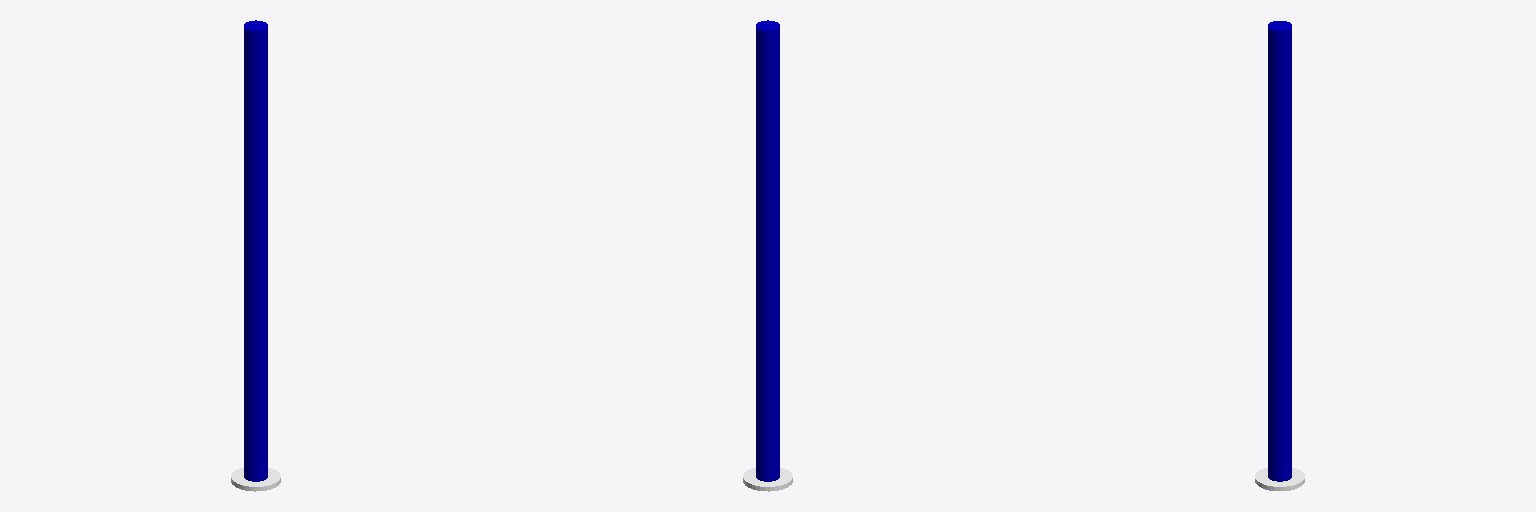
URDF robot description (spatial_10dof):
<?xml version="1.0" ?>
<robot name="spatial_10dof" xmlns:xacro="http://ros.org/wiki/xacro">
    <gazebo>
        <plugin filename="libgazebo_ros_control.so" name="ros_control" />
        <plugin name="gazebo_ros_control" filename="libgazebo_ros_control.so">
            <robotNamespace>/</robotNamespace>
        </plugin>
    </gazebo>
    <link name="world">
        <visual>
            <origin xyz="0 0 0" rpy="0 0 0" />
            <geometry>
                <cylinder length="0.01" radius="0.05" />
            </geometry>
            <material name="White">
                <color rgba="1.0 1.0 1.0 1.0" />
            </material>
        </visual>
    </link>
    <link name="link1">
        <visual>
            <origin xyz="0 0 0.05" rpy="0 0 0" />
            <geometry>
                <cylinder length="0.1" radius="0.025" />
            </geometry>
            <material name="Blue">
                <color rgba="0.0 0.0 0.8 1.0" />
            </material>
        </visual>
        <collision>
            <origin xyz="0 0 0.05" rpy="0 0 0" />
            <geometry>
                <cylinder length="0.1" radius="0.025" />
            </geometry>
        </collision>
        <inertial>
            <mass value="0.1" />
            <origin xyz="0 0 0" rpy="0 0 0" />
            <inertia ixx="0.03" iyy="0.03" izz="0.03" ixy="0.0" ixz="0.0" iyz="0.0" />
        </inertial>
    </link>
    <link name="link2">
        <visual>
            <origin xyz="0 0 0.05" rpy="0 0 0" />
            <geometry>
                <cylinder length="0.1" radius="0.025" />
            </geometry>
            <material name="Blue">
                <color rgba="0.0 0.0 0.8 1.0" />
            </material>
        </visual>
        <collision>
            <origin xyz="0 0 0.05" rpy="0 0 0" />
            <geometry>
                <cylinder length="0.1" radius="0.025" />
            </geometry>
        </collision>
        <inertial>
            <mass value="0.1" />
            <origin xyz="0 0 0" rpy="0 0 0" />
            <inertia ixx="0.03" iyy="0.03" izz="0.03" ixy="0.0" ixz="0.0" iyz="0.0" />
        </inertial>
    </link>
    <link name="link3">
        <visual>
            <origin xyz="0 0 0.05" rpy="0 0 0" />
            <geometry>
                <cylinder length="0.1" radius="0.025" />
            </geometry>
            <material name="Blue">
                <color rgba="0.0 0.0 0.8 1.0" />
            </material>
        </visual>
        <collision>
            <origin xyz="0 0 0.05" rpy="0 0 0" />
            <geometry>
                <cylinder length="0.1" radius="0.025" />
            </geometry>
        </collision>
        <inertial>
            <mass value="0.1" />
            <origin xyz="0 0 0" rpy="0 0 0" />
            <inertia ixx="0.03" iyy="0.03" izz="0.03" ixy="0.0" ixz="0.0" iyz="0.0" />
        </inertial>
    </link>
    <link name="link4">
        <visual>
            <origin xyz="0 0 0.05" rpy="0 0 0" />
            <geometry>
                <cylinder length="0.1" radius="0.025" />
            </geometry>
            <material name="Blue">
                <color rgba="0.0 0.0 0.8 1.0" />
            </material>
        </visual>
        <collision>
            <origin xyz="0 0 0.05" rpy="0 0 0" />
            <geometry>
                <cylinder length="0.1" radius="0.025" />
            </geometry>
        </collision>
        <inertial>
            <mass value="0.1" />
            <origin xyz="0 0 0" rpy="0 0 0" />
            <inertia ixx="0.03" iyy="0.03" izz="0.03" ixy="0.0" ixz="0.0" iyz="0.0" />
        </inertial>
    </link>
    <link name="link5">
        <visual>
            <origin xyz="0 0 0.05" rpy="0 0 0" />
            <geometry>
                <cylinder length="0.1" radius="0.025" />
            </geometry>
            <material name="Blue">
                <color rgba="0.0 0.0 0.8 1.0" />
            </material>
        </visual>
        <collision>
            <origin xyz="0 0 0.05" rpy="0 0 0" />
            <geometry>
                <cylinder length="0.1" radius="0.025" />
            </geometry>
        </collision>
        <inertial>
            <mass value="0.1" />
            <origin xyz="0 0 0" rpy="0 0 0" />
            <inertia ixx="0.03" iyy="0.03" izz="0.03" ixy="0.0" ixz="0.0" iyz="0.0" />
        </inertial>
    </link>
    <link name="link6">
        <visual>
            <origin xyz="0 0 0.05" rpy="0 0 0" />
            <geometry>
                <cylinder length="0.1" radius="0.025" />
            </geometry>
            <material name="Blue">
                <color rgba="0.0 0.0 0.8 1.0" />
            </material>
        </visual>
        <collision>
            <origin xyz="0 0 0.05" rpy="0 0 0" />
            <geometry>
                <cylinder length="0.1" radius="0.025" />
            </geometry>
        </collision>
        <inertial>
            <mass value="0.1" />
            <origin xyz="0 0 0" rpy="0 0 0" />
            <inertia ixx="0.03" iyy="0.03" izz="0.03" ixy="0.0" ixz="0.0" iyz="0.0" />
        </inertial>
    </link>
    <link name="link7">
        <visual>
            <origin xyz="0 0 0.05" rpy="0 0 0" />
            <geometry>
                <cylinder length="0.1" radius="0.025" />
            </geometry>
            <material name="Blue">
                <color rgba="0.0 0.0 0.8 1.0" />
            </material>
        </visual>
        <collision>
            <origin xyz="0 0 0.05" rpy="0 0 0" />
            <geometry>
                <cylinder length="0.1" radius="0.025" />
            </geometry>
        </collision>
        <inertial>
            <mass value="0.1" />
            <origin xyz="0 0 0" rpy="0 0 0" />
            <inertia ixx="0.03" iyy="0.03" izz="0.03" ixy="0.0" ixz="0.0" iyz="0.0" />
        </inertial>
    </link>
    <link name="link8">
        <visual>
            <origin xyz="0 0 0.05" rpy="0 0 0" />
            <geometry>
                <cylinder length="0.1" radius="0.025" />
            </geometry>
            <material name="Blue">
                <color rgba="0.0 0.0 0.8 1.0" />
            </material>
        </visual>
        <collision>
            <origin xyz="0 0 0.05" rpy="0 0 0" />
            <geometry>
                <cylinder length="0.1" radius="0.025" />
            </geometry>
        </collision>
        <inertial>
            <mass value="0.1" />
            <origin xyz="0 0 0" rpy="0 0 0" />
            <inertia ixx="0.03" iyy="0.03" izz="0.03" ixy="0.0" ixz="0.0" iyz="0.0" />
        </inertial>
    </link>
    <link name="link9">
        <visual>
            <origin xyz="0 0 0.05" rpy="0 0 0" />
            <geometry>
                <cylinder length="0.1" radius="0.025" />
            </geometry>
            <material name="Blue">
                <color rgba="0.0 0.0 0.8 1.0" />
            </material>
        </visual>
        <collision>
            <origin xyz="0 0 0.05" rpy="0 0 0" />
            <geometry>
                <cylinder length="0.1" radius="0.025" />
            </geometry>
        </collision>
        <inertial>
            <mass value="0.1" />
            <origin xyz="0 0 0" rpy="0 0 0" />
            <inertia ixx="0.03" iyy="0.03" izz="0.03" ixy="0.0" ixz="0.0" iyz="0.0" />
        </inertial>
    </link>
    <link name="link10">
        <visual>
            <origin xyz="0 0 0.05" rpy="0 0 0" />
            <geometry>
                <cylinder length="0.1" radius="0.025" />
            </geometry>
            <material name="Blue">
                <color rgba="0.0 0.0 0.8 1.0" />
            </material>
        </visual>
        <collision>
            <origin xyz="0 0 0.05" rpy="0 0 0" />
            <geometry>
                <cylinder length="0.1" radius="0.025" />
            </geometry>
        </collision>
        <inertial>
            <mass value="0.1" />
            <origin xyz="0 0 0" rpy="0 0 0" />
            <inertia ixx="0.03" iyy="0.03" izz="0.03" ixy="0.0" ixz="0.0" iyz="0.0" />
        </inertial>
    </link>
    <link name="tool" />

    <!-- Joints -->
    <joint name="joint1" type="revolute">
        <limit effort="30" velocity="3.14159" lower="-3.14159" upper="3.14159" />
        <parent link="world" />
        <child link="link1" />
        <origin xyz="0 0 0" rpy="0 0 0" />
        <axis xyz="0 0 1" />
    </joint>
    <joint name="joint2" type="revolute">
        <limit effort="30" velocity="3.14159" lower="-3.14159" upper="3.14159" />
        <parent link="link1" />
        <child link="link2" />
        <origin xyz="0 0 0.1" rpy="0 0 0" />
        <axis xyz="1 0 0" />
    </joint>
    <joint name="joint3" type="revolute">
        <limit effort="30" velocity="3.14159" lower="-3.14159" upper="3.14159" />
        <parent link="link2" />
        <child link="link3" />
        <origin xyz="0 0 0.1" rpy="0 0 0" />
        <axis xyz="1 0 0" />
    </joint>
    <joint name="joint4" type="revolute">
        <limit effort="30" velocity="3.14159" lower="-3.14159" upper="3.14159" />
        <parent link="link3" />
        <child link="link4" />
        <origin xyz="0 0 0.1" rpy="0 0 0" />
        <axis xyz="1 0 0" />
    </joint>
    <joint name="joint5" type="revolute">
        <limit effort="30" velocity="3.14159" lower="-3.14159" upper="3.14159" />
        <parent link="link4" />
        <child link="link5" />
        <origin xyz="0 0 0.1" rpy="0 0 0" />
        <axis xyz="1 0 0" />
    </joint>
    <joint name="joint6" type="revolute">
        <limit effort="30" velocity="3.14159" lower="-3.14159" upper="3.14159" />
        <parent link="link5" />
        <child link="link6" />
        <origin xyz="0 0 0.1" rpy="0 0 0" />
        <axis xyz="1 0 0" />
    </joint>
    <joint name="joint7" type="revolute">
        <limit effort="30" velocity="3.14159" lower="-3.14159" upper="3.14159" />
        <parent link="link6" />
        <child link="link7" />
        <origin xyz="0 0 0.1" rpy="0 0 0" />
        <axis xyz="1 0 0" />
    </joint>
    <joint name="joint8" type="revolute">
        <limit effort="30" velocity="3.14159" lower="-3.14159" upper="3.14159" />
        <parent link="link7" />
        <child link="link8" />
        <origin xyz="0 0 0.1" rpy="0 0 0" />
        <axis xyz="1 0 0" />
    </joint>
    <joint name="joint9" type="revolute">
        <limit effort="30" velocity="3.14159" lower="-3.14159" upper="3.14159" />
        <parent link="link8" />
        <child link="link9" />
        <origin xyz="0 0 0.1" rpy="0 0 0" />
        <axis xyz="1 0 0" />
    </joint>
    <joint name="joint10" type="revolute">
        <limit effort="30" velocity="3.14159" lower="-3.14159" upper="3.14159" />
        <parent link="link9" />
        <child link="link10" />
        <origin xyz="0 0 0.1" rpy="0 0 0" />
        <axis xyz="1 0 0" />
    </joint>
    <joint name="ee" type="fixed">
        <parent link="link10" />
        <child link="tool" />
        <limit effort="30" velocity="3.14159" lower="-6.28318" upper="6.28318" />
        <origin xyz="0 0 0.1" rpy="0 0 0" />
        <axis xyz="0 0 1" />
    </joint>
</robot>

--- Facts derived from the render (not from the file) ---
Views: 3 orthographic renders of the robot side by side, from view 1: azimuth 30°, elevation 25°; view 2: azimuth 150°, elevation 25°; view 3: azimuth 270°, elevation 25°.
Model spatial_10dof with 12 links and 11 joints (10 revolute, 1 fixed), rooted at world, posed every joint at zero.
Visible links, largest first — view 1: link10, link5, link2, link4, link8, link9, link7, link3, link6, link1, world; view 2: link10, link5, link2, link4, link8, link9, link7, link3, link6, link1, world; view 3: link10, link5, link2, link9, link4, link7, link8, link6, link3, link1, world.
Link boxes in pixels (x1=…): link10: x1=244, y1=20, x2=267, y2=75; link5: x1=244, y1=254, x2=267, y2=302; link2: x1=244, y1=390, x2=267, y2=438; link4: x1=244, y1=300, x2=267, y2=347; link8: x1=244, y1=118, x2=267, y2=166; link9: x1=244, y1=73, x2=267, y2=121; link7: x1=244, y1=164, x2=267, y2=211; link3: x1=244, y1=345, x2=267, y2=392; link6: x1=244, y1=209, x2=267, y2=256; link1: x1=244, y1=435, x2=267, y2=481; world: x1=231, y1=467, x2=280, y2=491; link10: x1=756, y1=20, x2=779, y2=75; link5: x1=756, y1=254, x2=779, y2=302; link2: x1=756, y1=390, x2=779, y2=438; link4: x1=756, y1=300, x2=779, y2=347; link8: x1=756, y1=118, x2=779, y2=166; link9: x1=756, y1=73, x2=779, y2=121; link7: x1=756, y1=164, x2=779, y2=211; link3: x1=756, y1=345, x2=779, y2=392; link6: x1=756, y1=209, x2=779, y2=256; link1: x1=756, y1=435, x2=779, y2=481; world: x1=743, y1=467, x2=792, y2=491; link10: x1=1268, y1=21, x2=1291, y2=75; link5: x1=1268, y1=254, x2=1291, y2=302; link2: x1=1268, y1=390, x2=1291, y2=438; link9: x1=1268, y1=73, x2=1291, y2=121; link4: x1=1268, y1=300, x2=1291, y2=347; link7: x1=1268, y1=164, x2=1291, y2=211; link8: x1=1268, y1=118, x2=1291, y2=166; link6: x1=1268, y1=209, x2=1291, y2=256; link3: x1=1268, y1=345, x2=1291, y2=392; link1: x1=1268, y1=435, x2=1291, y2=481; world: x1=1255, y1=467, x2=1304, y2=490.
Bounding box of the posed robot: 0.1 × 0.1 × 1 m (x, y, z).
Geometry: primitives only (box / cylinder / sphere), no mesh files.